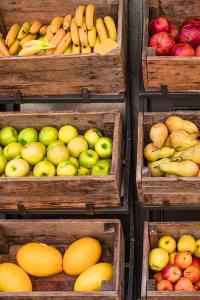apple: (0, 111, 116, 191), (138, 215, 200, 300), (20, 142, 44, 165), (47, 144, 70, 166), (149, 248, 169, 272), (4, 159, 30, 177), (67, 138, 88, 158), (94, 137, 113, 159), (38, 126, 58, 146), (79, 150, 100, 169), (84, 128, 103, 149), (2, 142, 23, 161), (163, 265, 182, 284), (58, 126, 78, 144), (18, 128, 38, 146), (0, 126, 18, 146), (34, 161, 56, 177), (178, 236, 196, 255), (174, 252, 193, 270), (56, 161, 78, 176), (158, 236, 176, 254), (92, 160, 112, 176), (184, 266, 200, 284), (174, 278, 194, 292), (46, 140, 65, 152), (157, 280, 174, 292)
banana: (1, 0, 127, 74), (104, 16, 117, 42), (78, 16, 88, 48), (96, 18, 108, 43), (70, 16, 80, 46), (86, 4, 96, 30), (50, 16, 64, 33), (76, 5, 86, 27), (88, 24, 96, 48), (62, 14, 72, 32)
melon: (0, 221, 132, 299), (16, 243, 62, 278), (63, 238, 102, 276), (74, 264, 113, 292), (0, 264, 32, 292)
pear: (136, 110, 200, 192), (170, 130, 200, 152), (159, 161, 200, 177), (166, 116, 199, 133), (144, 144, 176, 161), (150, 123, 168, 150), (148, 158, 171, 177), (180, 143, 200, 164)
pomegranate: (146, 6, 200, 66), (149, 32, 176, 56), (179, 24, 200, 48), (150, 17, 172, 35), (171, 43, 196, 56)
